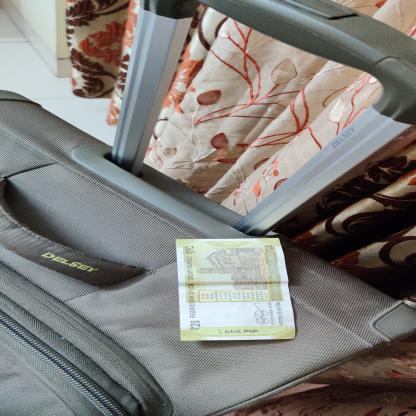New20Back: (174, 237, 300, 342)
